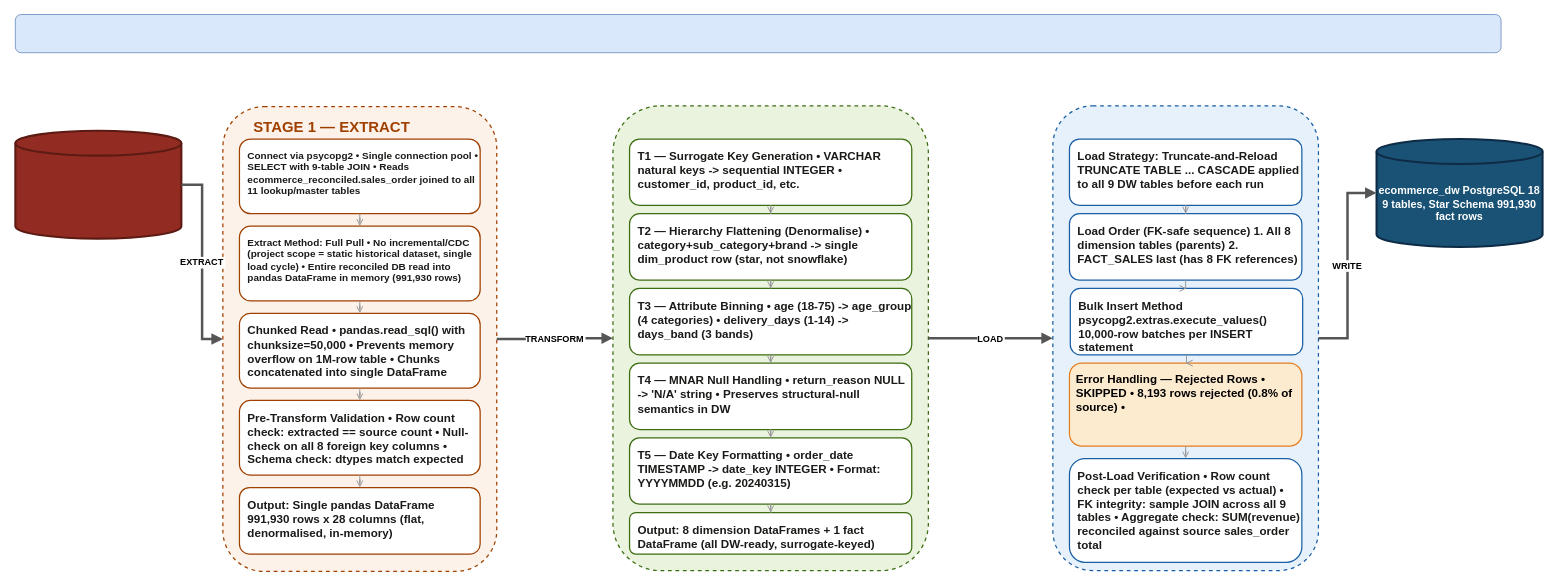
The diagram is 1558 pixels wide and 587 high, and some of its shapes have lost their labels. The shapes that lost their labels are listed below. From the top down, each one's box as (x1, y1, x2, y2) in pixels, then its label:
(15, 14, 1501, 53): ETL Architecture — ecommerce_reconciled to ecommerce_dw
(14, 129, 182, 239): ecommerce_reconciled PostgreSQL 18 12 tables, 3NF 991,930 orders
(612, 105, 929, 571): STAGE 2 — TRANSFORM
(1052, 105, 1319, 571): STAGE 3 — LOAD
